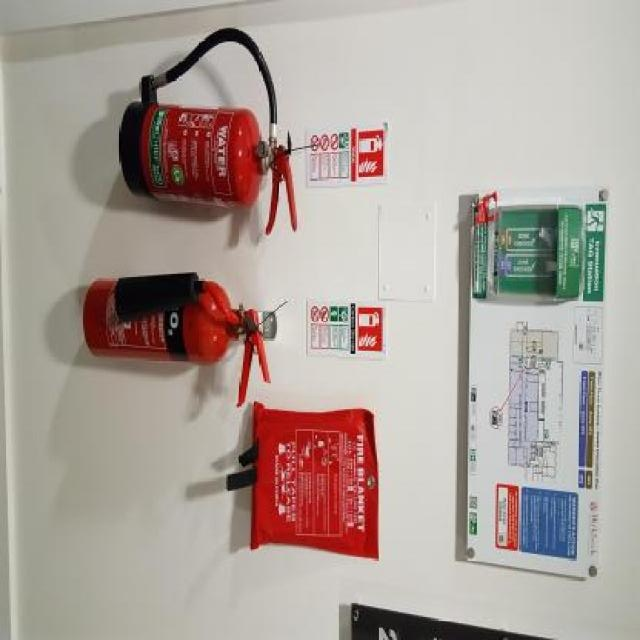fire extinguisher: (121, 24, 297, 236), (84, 266, 273, 397)
